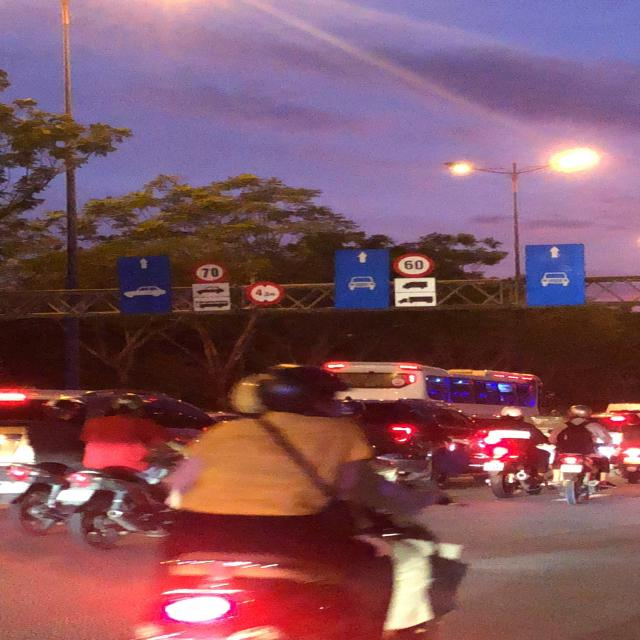Bien bao han che chieu cao: (244, 280, 287, 306)
Bien bao toc do toi da cho phep: (387, 248, 440, 280), (188, 258, 228, 284)
